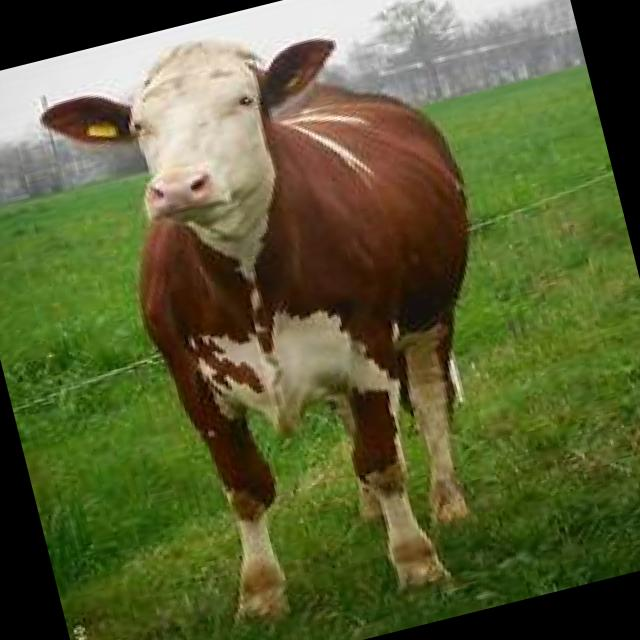cow: (26, 0, 559, 640)
